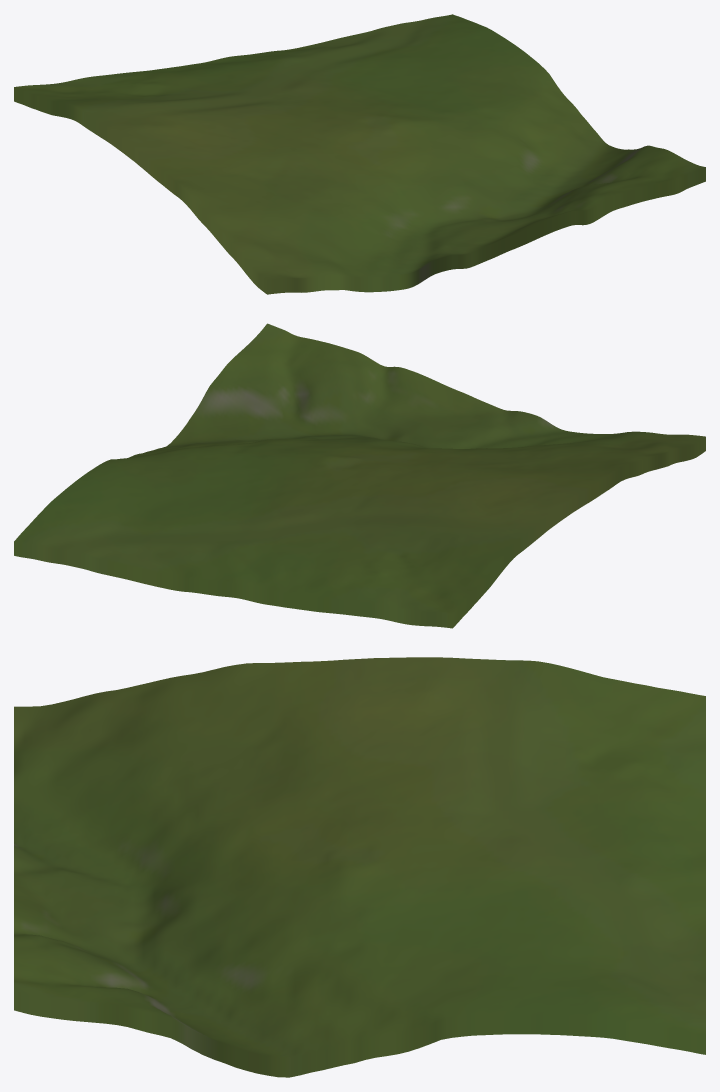
File: terrain_9_-10.glb
The picture shows the model from 3 angles, top to bottom: view 1: azimuth 30°, elevation 25°; view 2: azimuth 150°, elevation 25°; view 3: azimuth 270°, elevation 25°; orthographic projection. The views are drawn at different scales.
Visible parts, largest first — view 1: terrain_9_-10; view 2: terrain_9_-10; view 3: terrain_9_-10.
Part boxes in pixels (x1,y1,x2,y2): terrain_9_-10: [14, 14, 705, 294]; terrain_9_-10: [14, 323, 705, 628]; terrain_9_-10: [14, 657, 705, 1077].
Bounding box in the file's own units: 256 × 52.11 × 256.
